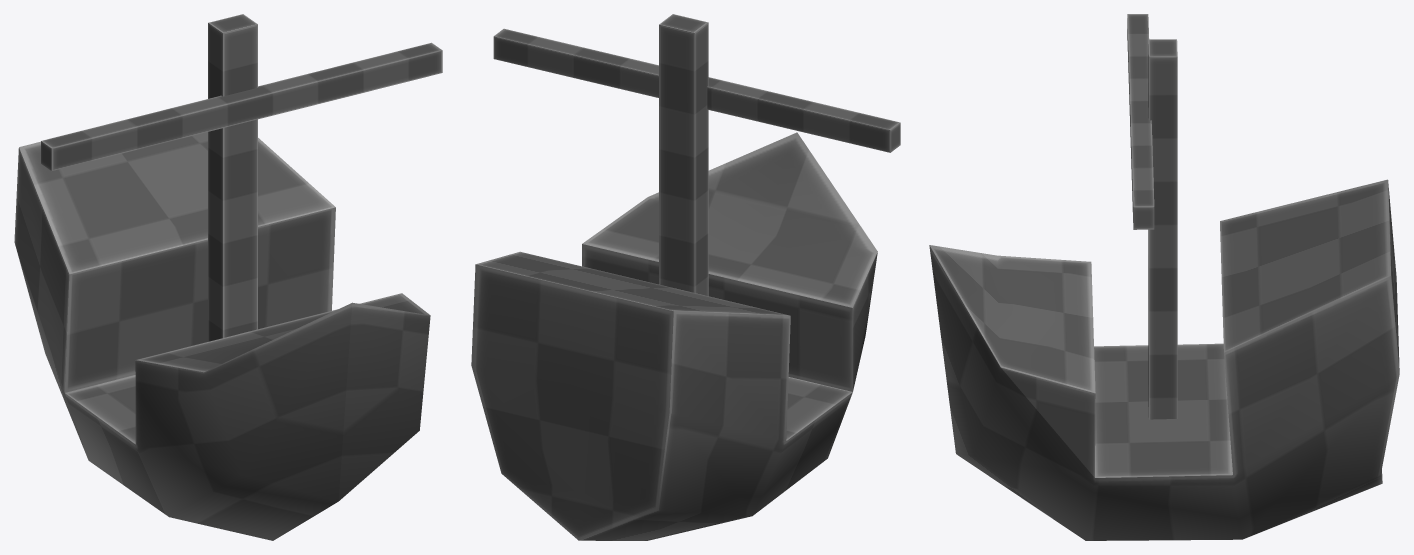
File: boat90.FBX
3 views of the same model, side by side, from view 1: azimuth 30°, elevation 25°; view 2: azimuth 150°, elevation 25°; view 3: azimuth 270°, elevation 25° (orthographic).
Visible parts, largest first — view 1: boat; view 2: boat; view 3: boat.
Part boxes in pixels (x1=…): boat: x1=14, y1=14, x2=442, y2=540; boat: x1=471, y1=14, x2=900, y2=540; boat: x1=929, y1=14, x2=1399, y2=540.
Size of the model in its own units: 66.51 by 78.78 by 68.47.
